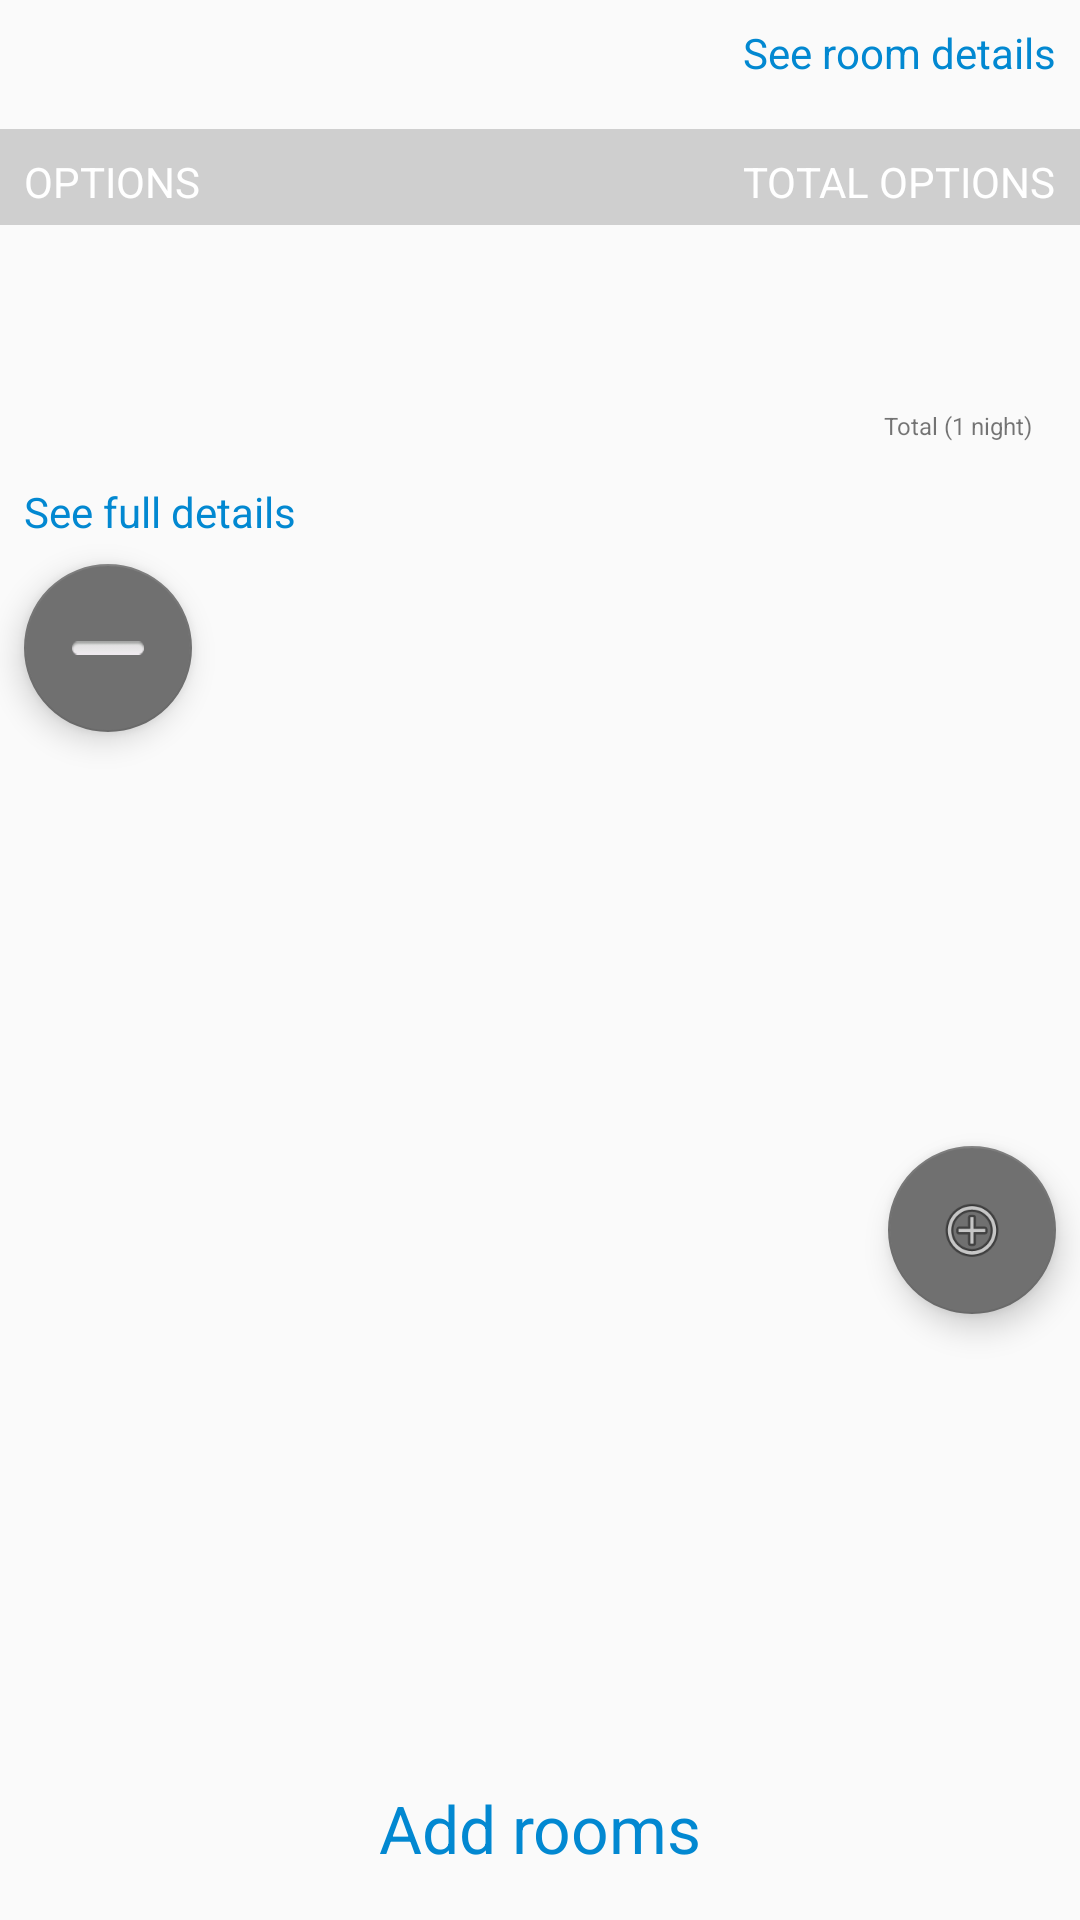

Screen size 1080px×1920px. Icon name, then its box in pixels as (x1,y1,x2,y2):
add: (888,1146,1056,1314)
